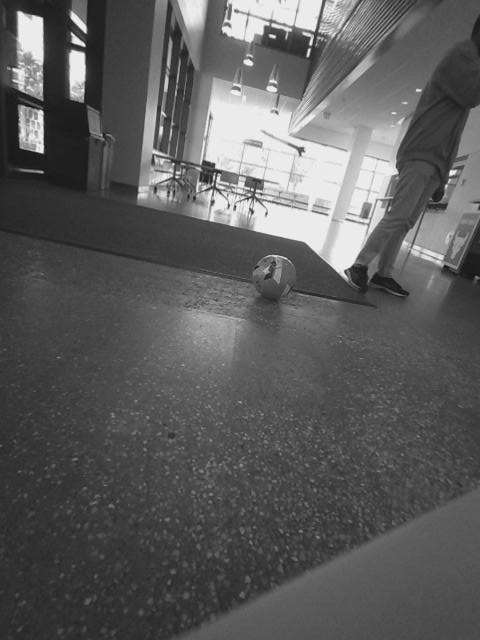ball: (246, 252, 300, 302)
